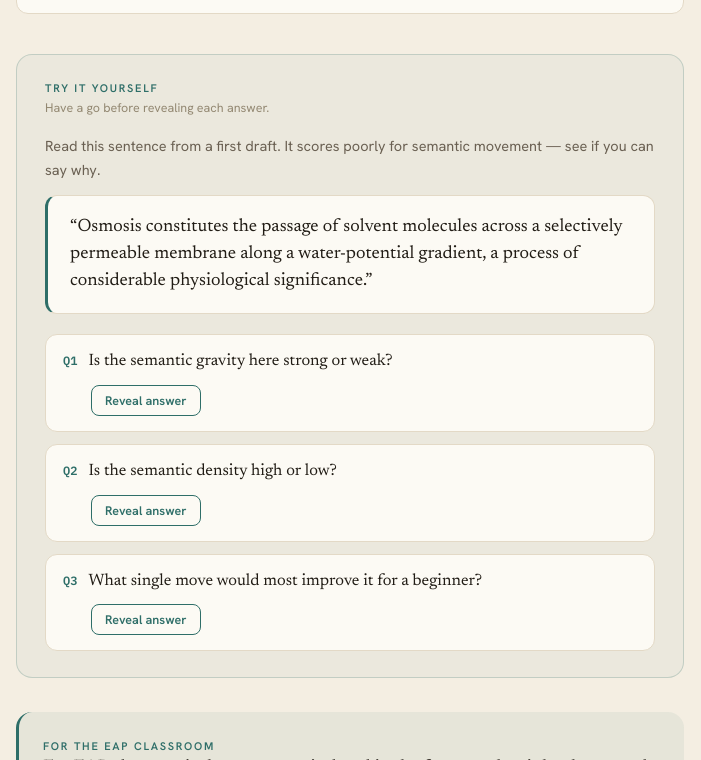
Wavelength views mount cleanly › shows an annotated example and an exercise with reveal-able answers
(page scrolled)
Expected: the text "Try it yourself" is shown, [45,81,158,95]
Click the 1st button "Reveal answer" at (146, 400), box [91,385,201,416]
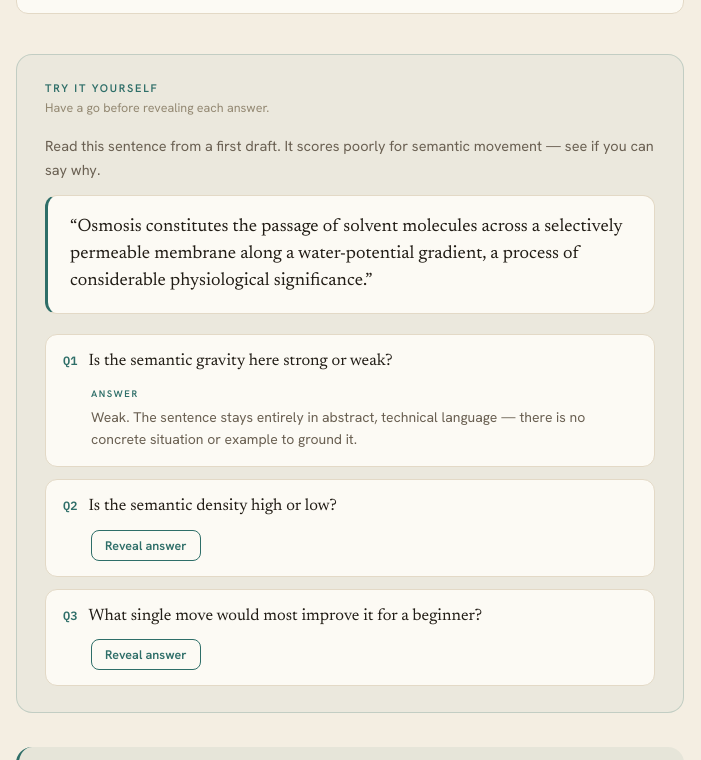
Expected: the text "there is no concrete situation or example to ground it" is shown, [91,408,585,448]
